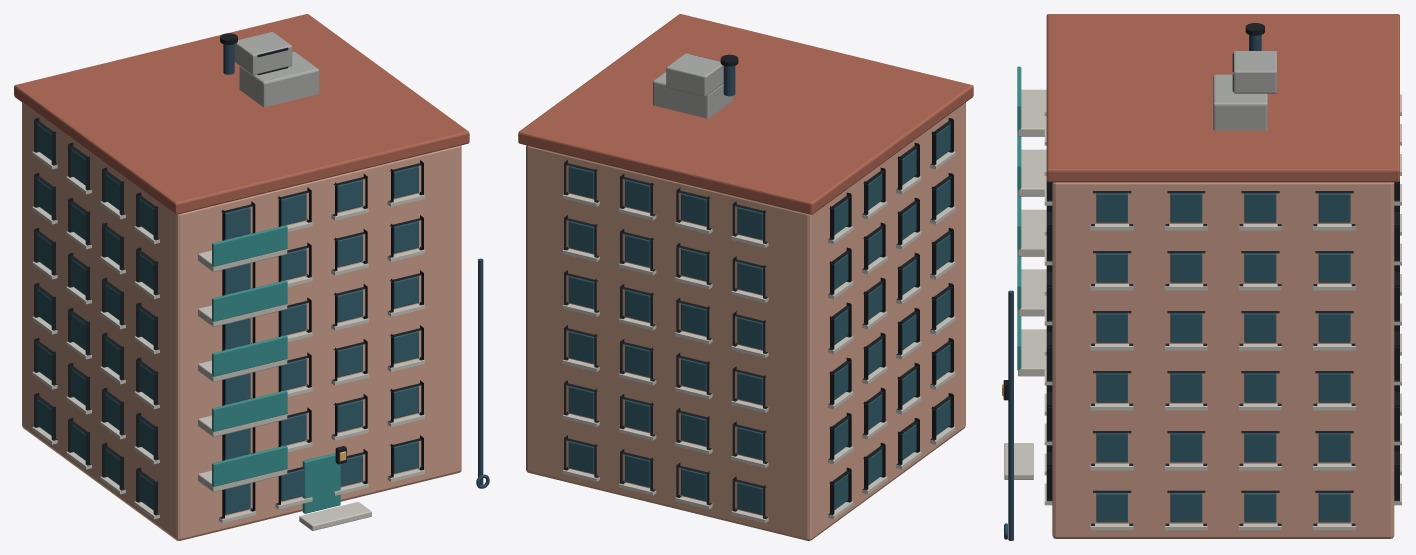
The model's file is RES_MID_2x2_003.glb.
3 renders of one model, left to right at view 1: azimuth 30°, elevation 25°; view 2: azimuth 150°, elevation 25°; view 3: azimuth 270°, elevation 25°, orthographic. The views are drawn at different scales.
Visible parts, largest first — view 1: RES_MID_2x2_003_Visual; view 2: RES_MID_2x2_003_Visual; view 3: RES_MID_2x2_003_Visual.
Part boxes in pixels (<box>): RES_MID_2x2_003_Visual: <box>14,14,489,540</box>; RES_MID_2x2_003_Visual: <box>518,14,973,540</box>; RES_MID_2x2_003_Visual: <box>1002,14,1401,540</box>.
Size of what is drawn, in the model's own units: 3.28 by 4.24 by 3.51.
